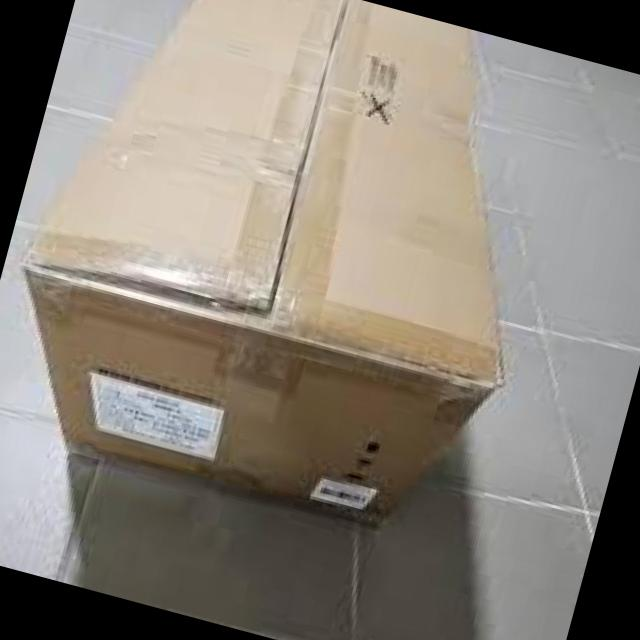box: (19, 1, 509, 531)
